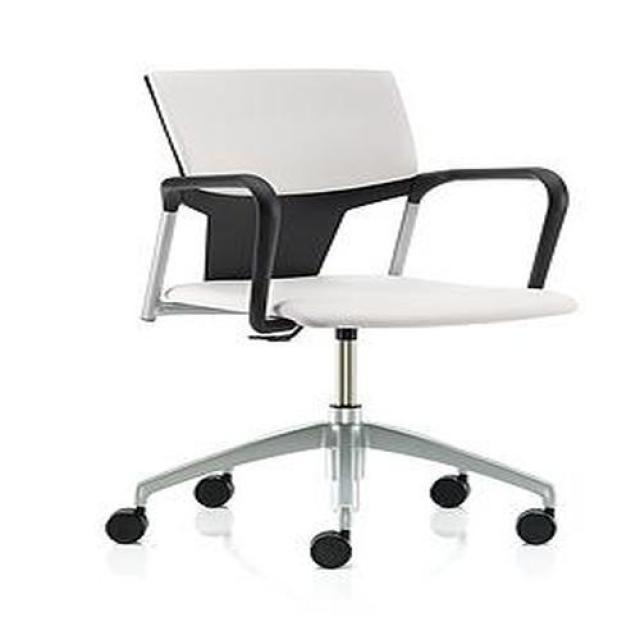swivelchair: (106, 69, 579, 570)
